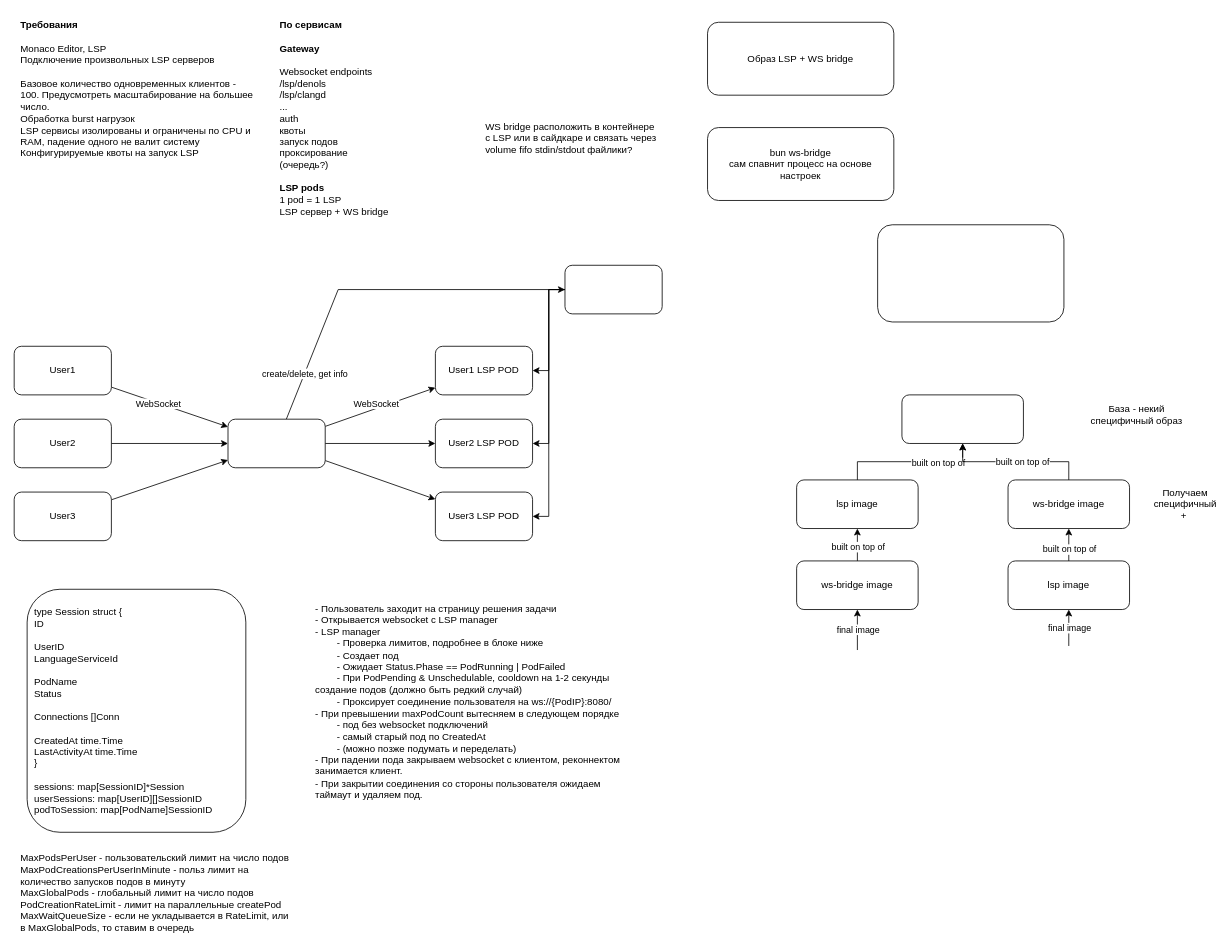
This 1231x951 diagram has some shape labels left out. Each missing label, with the centre of its shape:
KubeAPI: (613,289)
lsp + bun + ws-bridge bun - oven/bun 1. ws-bridge отдельным образом,: (970,273)
LSP manager: (276,443)
specific/language image: (962,418)
